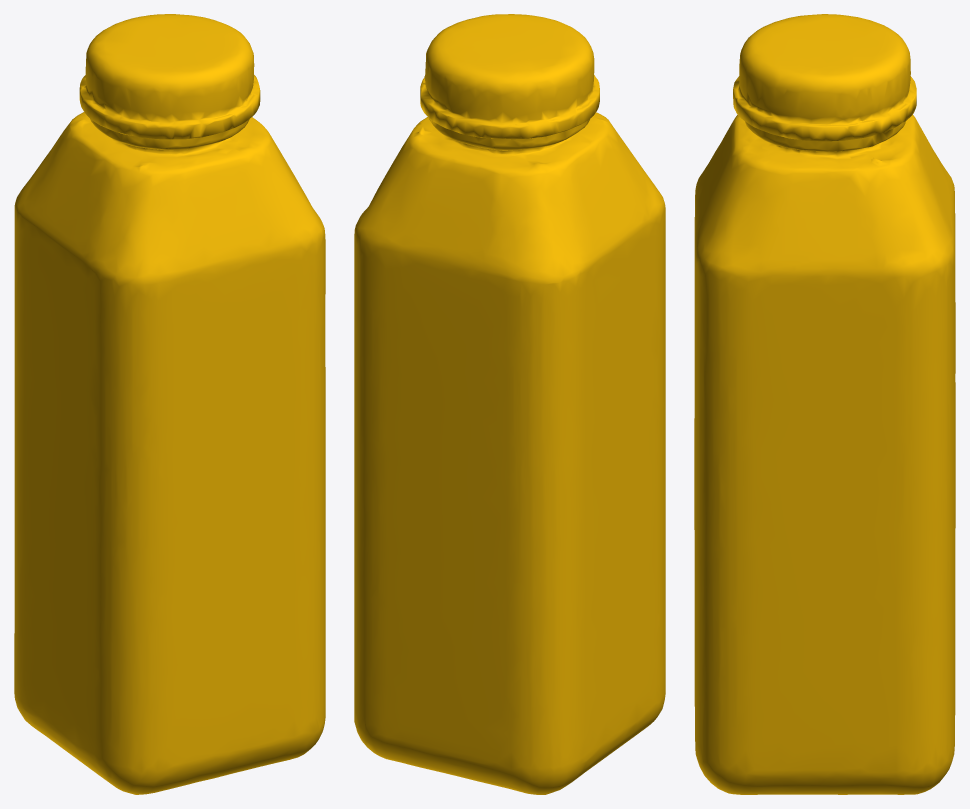
The model's file is bottle.obj.
3 renders of one model, left to right at view 1: azimuth 30°, elevation 25°; view 2: azimuth 150°, elevation 25°; view 3: azimuth 270°, elevation 25°, orthographic.
Visible parts, largest first — view 1: Mesh1; view 2: Mesh1; view 3: Mesh1.
Part boxes in pixels (x1,y1,x2,y2): Mesh1: (14,14,325,794); Mesh1: (354,14,665,794); Mesh1: (694,14,955,794).
Size of the model in its own units: 0.06 by 0.18 by 0.06.
